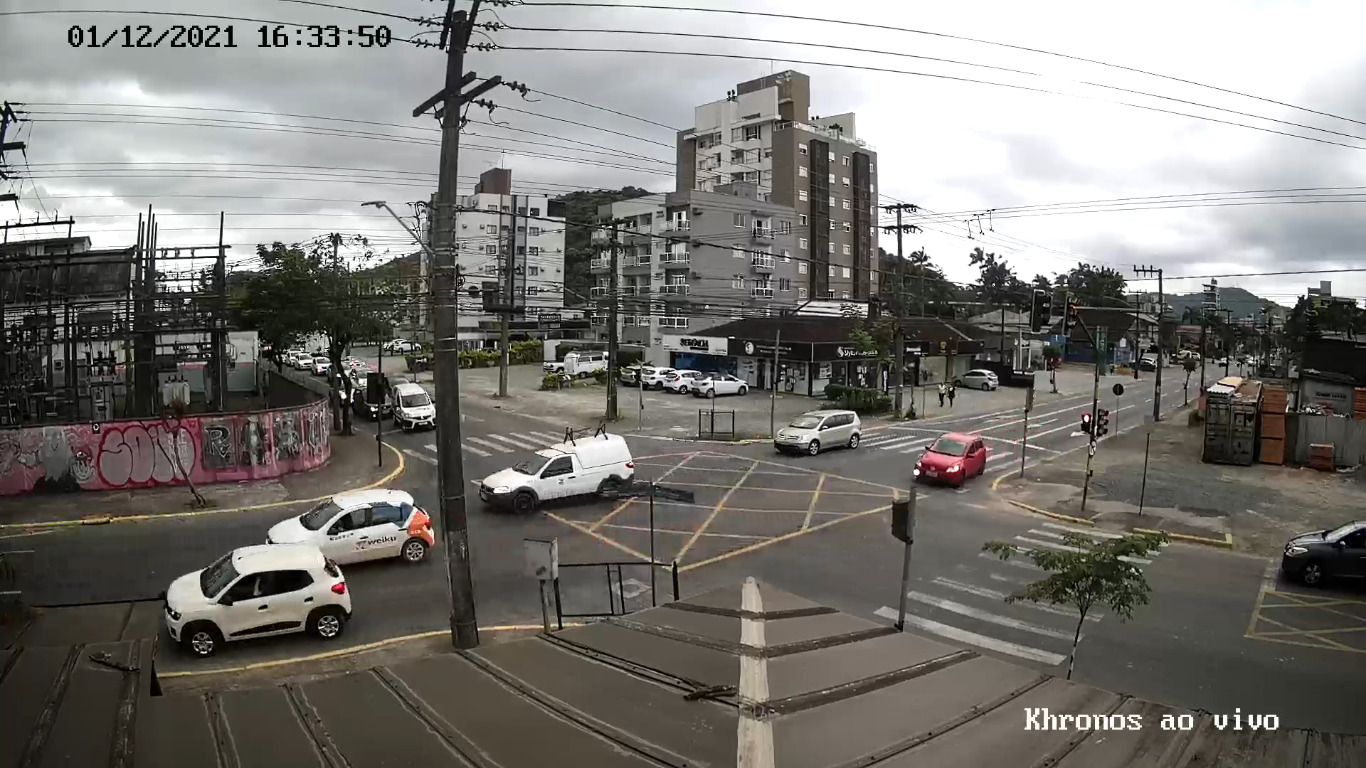car: (160, 541, 355, 661), (262, 486, 436, 569), (479, 431, 634, 515), (1280, 515, 1366, 591), (912, 430, 988, 489), (772, 409, 864, 456)
